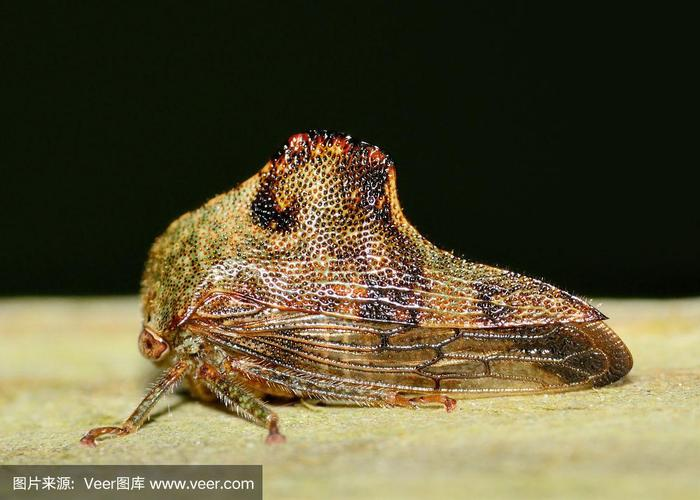Cicadellidae: (90, 131, 633, 398)
